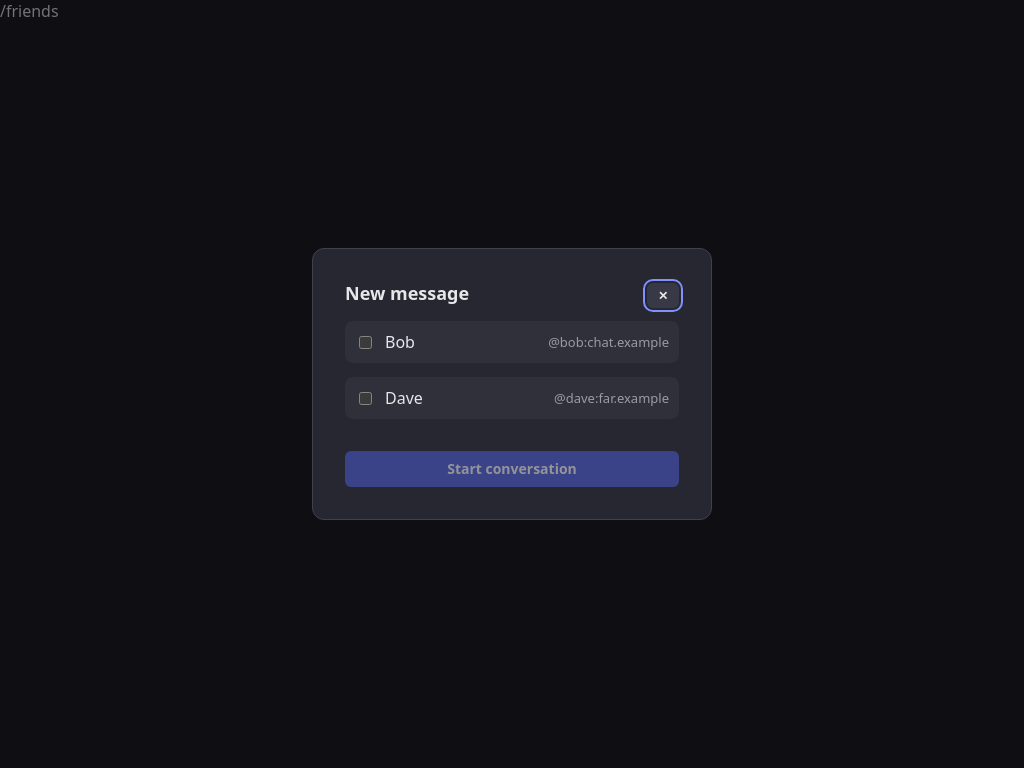
Scenario: NewConversationModal › lists friends on this server and on others, and starts a direct message with one
Click the checkbox labelled "Bob @bob:chat.example" at (366, 342), box left=359, top=336, right=372, bottom=349
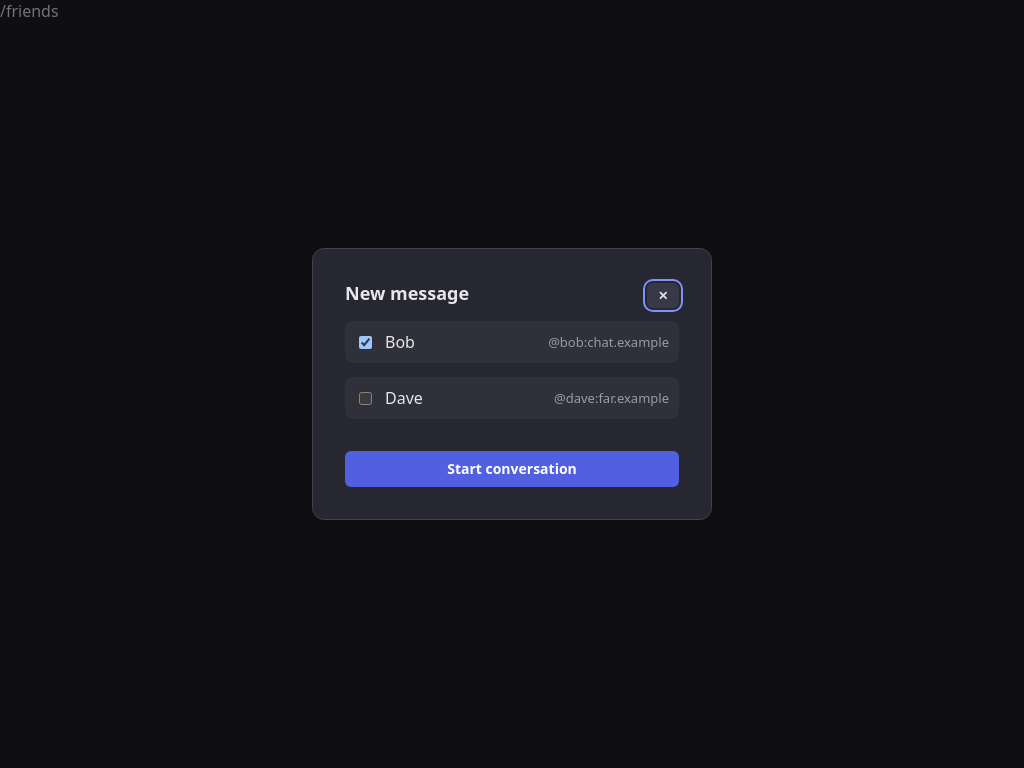
Click the button "Start conversation" at (512, 469), box left=345, top=451, right=679, bottom=487
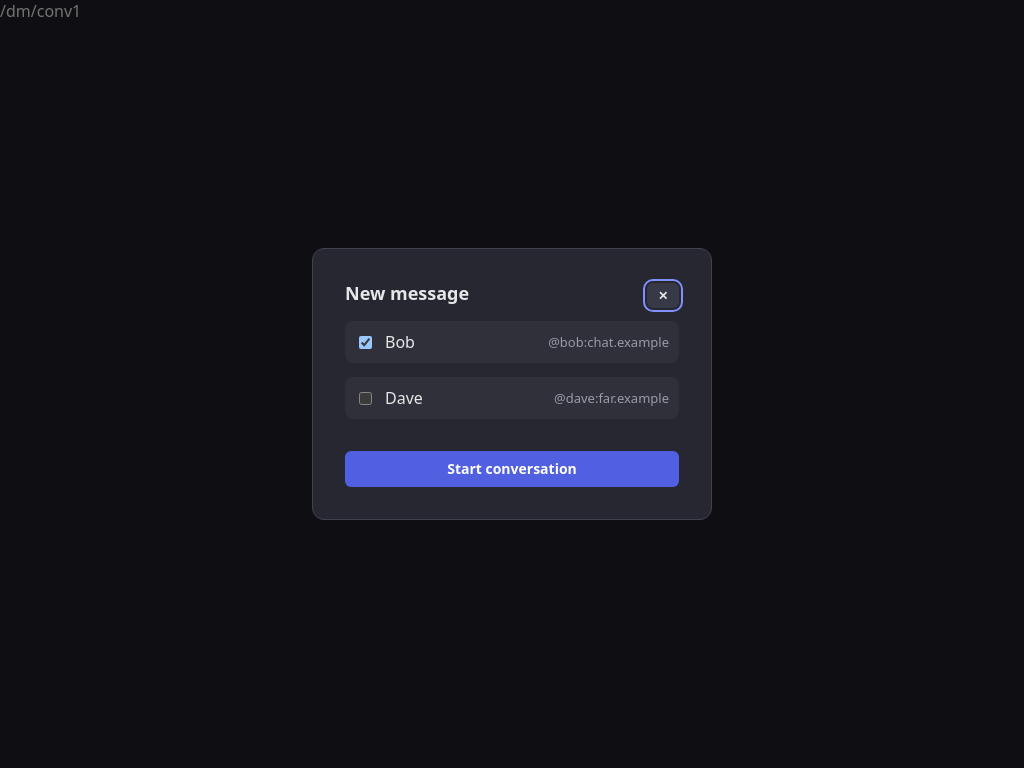
Check: the checkbox labelled "Dave @dave:far.example" is enabled, box left=359, top=392, right=372, bottom=405
Check: the text with test id "where" reads "/dm/conv1", box left=0, top=0, right=81, bottom=22
